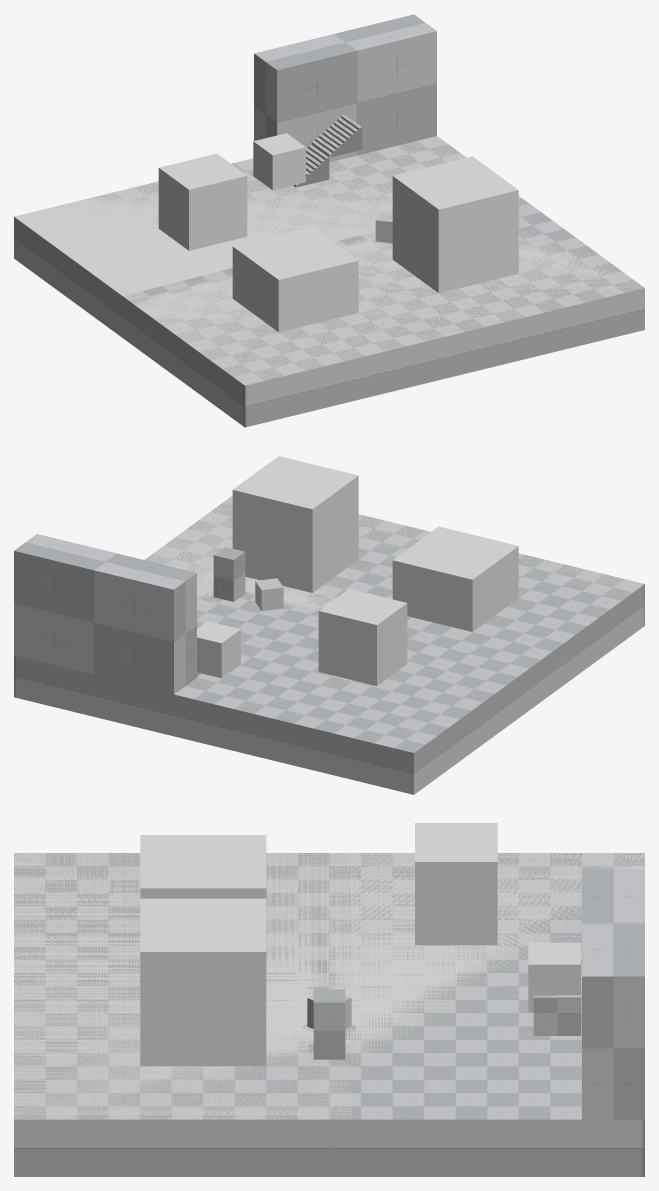
The model's file is test_rooms.glb.
3 renders of one model, top to bottom at view 1: azimuth 30°, elevation 25°; view 2: azimuth 150°, elevation 25°; view 3: azimuth 270°, elevation 25°, orthographic. The views are drawn at different scales.
Visible parts, largest first — view 1: floor, walk_area, Cube, interactable.002, interactable.001, interactable.003.cleaner_dialog, interactable.003, stairs.001, stairs; view 2: floor, Cube, interactable.002, interactable.001, interactable.003.cleaner_dialog, walk_area, interactable.003, cube tall, cube small; view 3: floor, walk_area, interactable.002, Cube, interactable.003.cleaner_dialog, interactable.001, interactable.003, cube tall, stairs.001.
Part boxes in pixels (x1,y1,x2,y2): floor: [14, 136, 644, 427]; walk_area: [14, 136, 644, 385]; Cube: [254, 14, 436, 161]; interactable.002: [392, 156, 518, 293]; interactable.001: [232, 227, 358, 332]; interactable.003.cleaner_dialog: [158, 153, 247, 250]; interactable.003: [253, 133, 305, 190]; stairs.001: [311, 114, 362, 157]; stairs: [293, 145, 329, 187]; floor: [14, 495, 644, 794]; Cube: [14, 534, 196, 694]; interactable.002: [232, 456, 358, 592]; interactable.001: [392, 526, 518, 631]; interactable.003.cleaner_dialog: [318, 589, 407, 685]; walk_area: [145, 496, 643, 747]; interactable.003: [197, 621, 240, 678]; cube tall: [213, 547, 245, 601]; cube small: [255, 578, 283, 610]; floor: [14, 853, 644, 1176]; walk_area: [14, 853, 644, 1119]; interactable.002: [140, 898, 266, 1066]; Cube: [582, 870, 644, 1119]; interactable.003.cleaner_dialog: [415, 823, 497, 945]; interactable.001: [140, 835, 266, 898]; interactable.003: [528, 942, 580, 1012]; cube tall: [313, 989, 345, 1059]; stairs.001: [533, 995, 581, 1028].
Size of the model in its own units: 20 by 7 by 20.
Materials: 1 (1 with a texture image).
